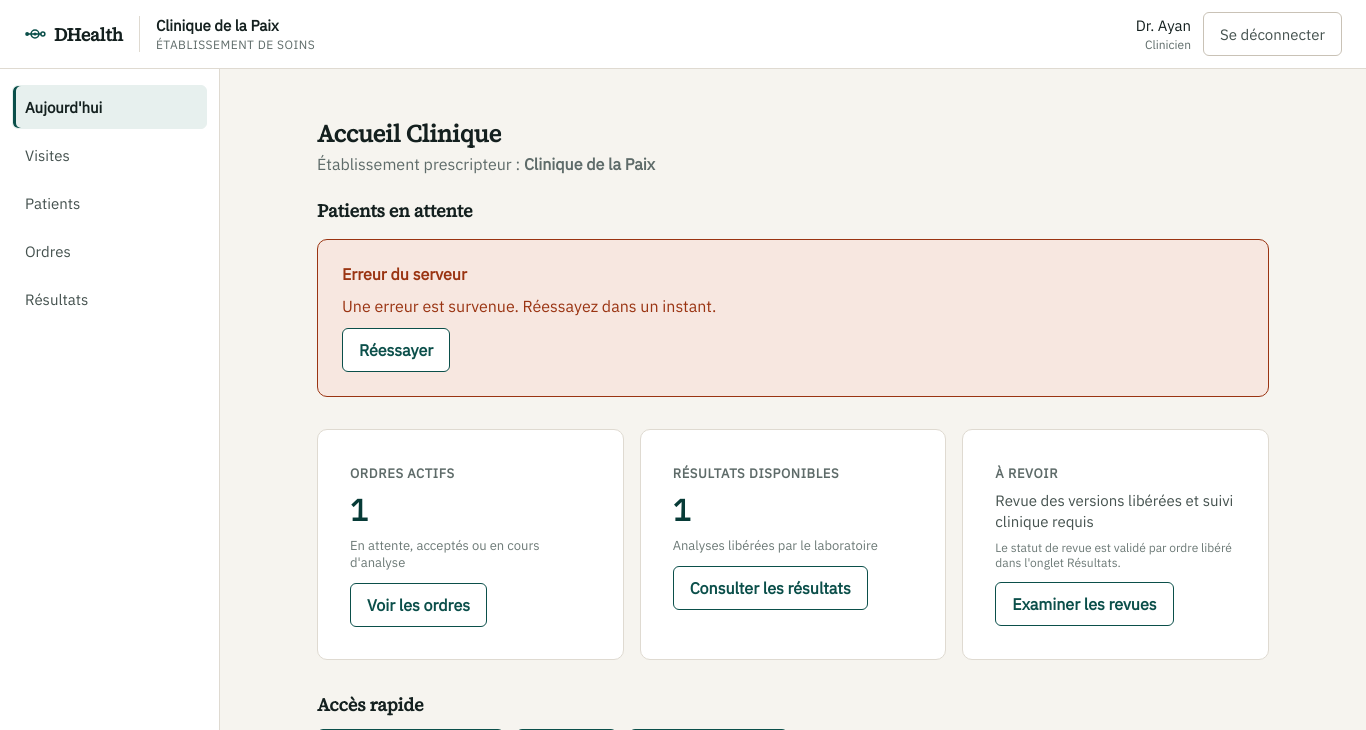
Test case: the staff application at a provider organization › DH-CLINIC-005: navigates to "Ordres de laboratoire" and renders the orders table with human patient identity, never a raw reference token
This screenshot has width=1366, height=730.
Click the button "Ordres".
click(110, 251)  # box [12,229,207,273]
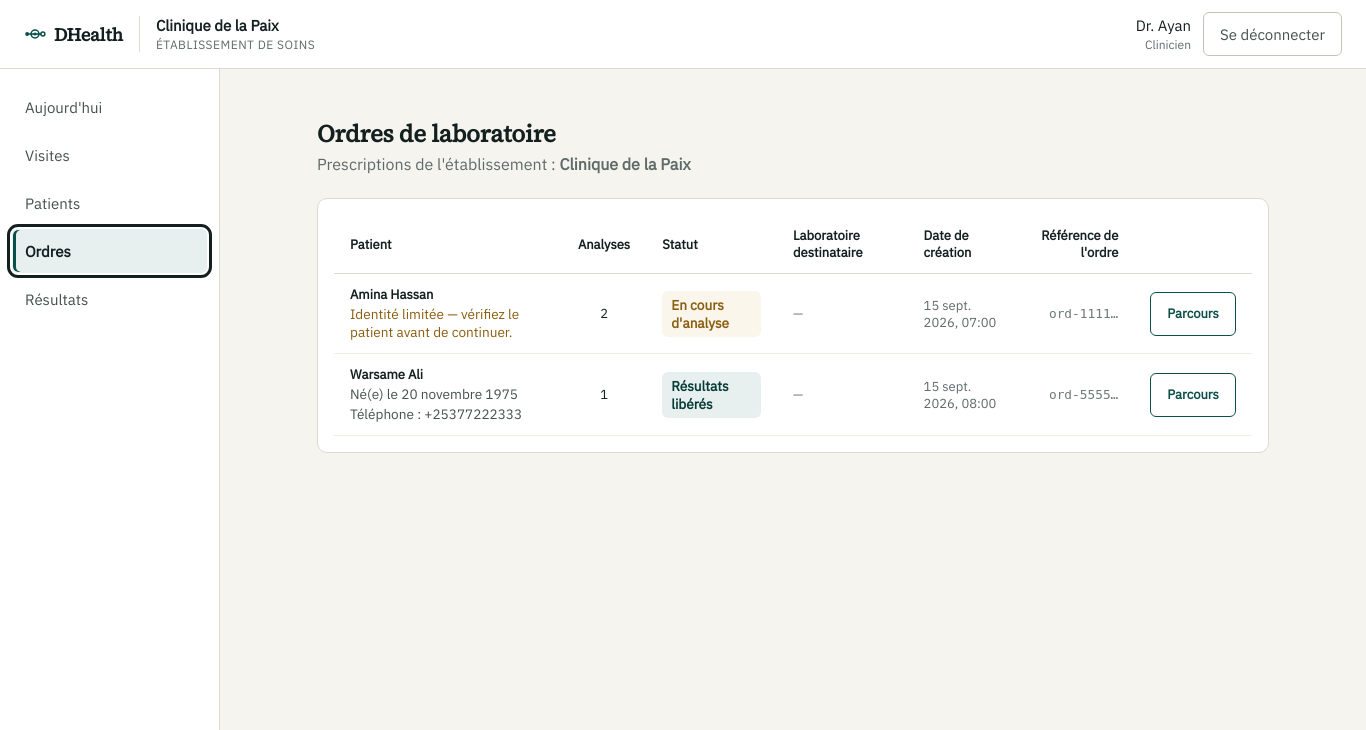
Now the heading "Ordres de laboratoire" is shown, box [317,117,556,150]
Now the text "Amina Hassan" is shown, box [350,286,433,303]
Now the text "Warsame Ali" is shown, box [350,366,423,383]
